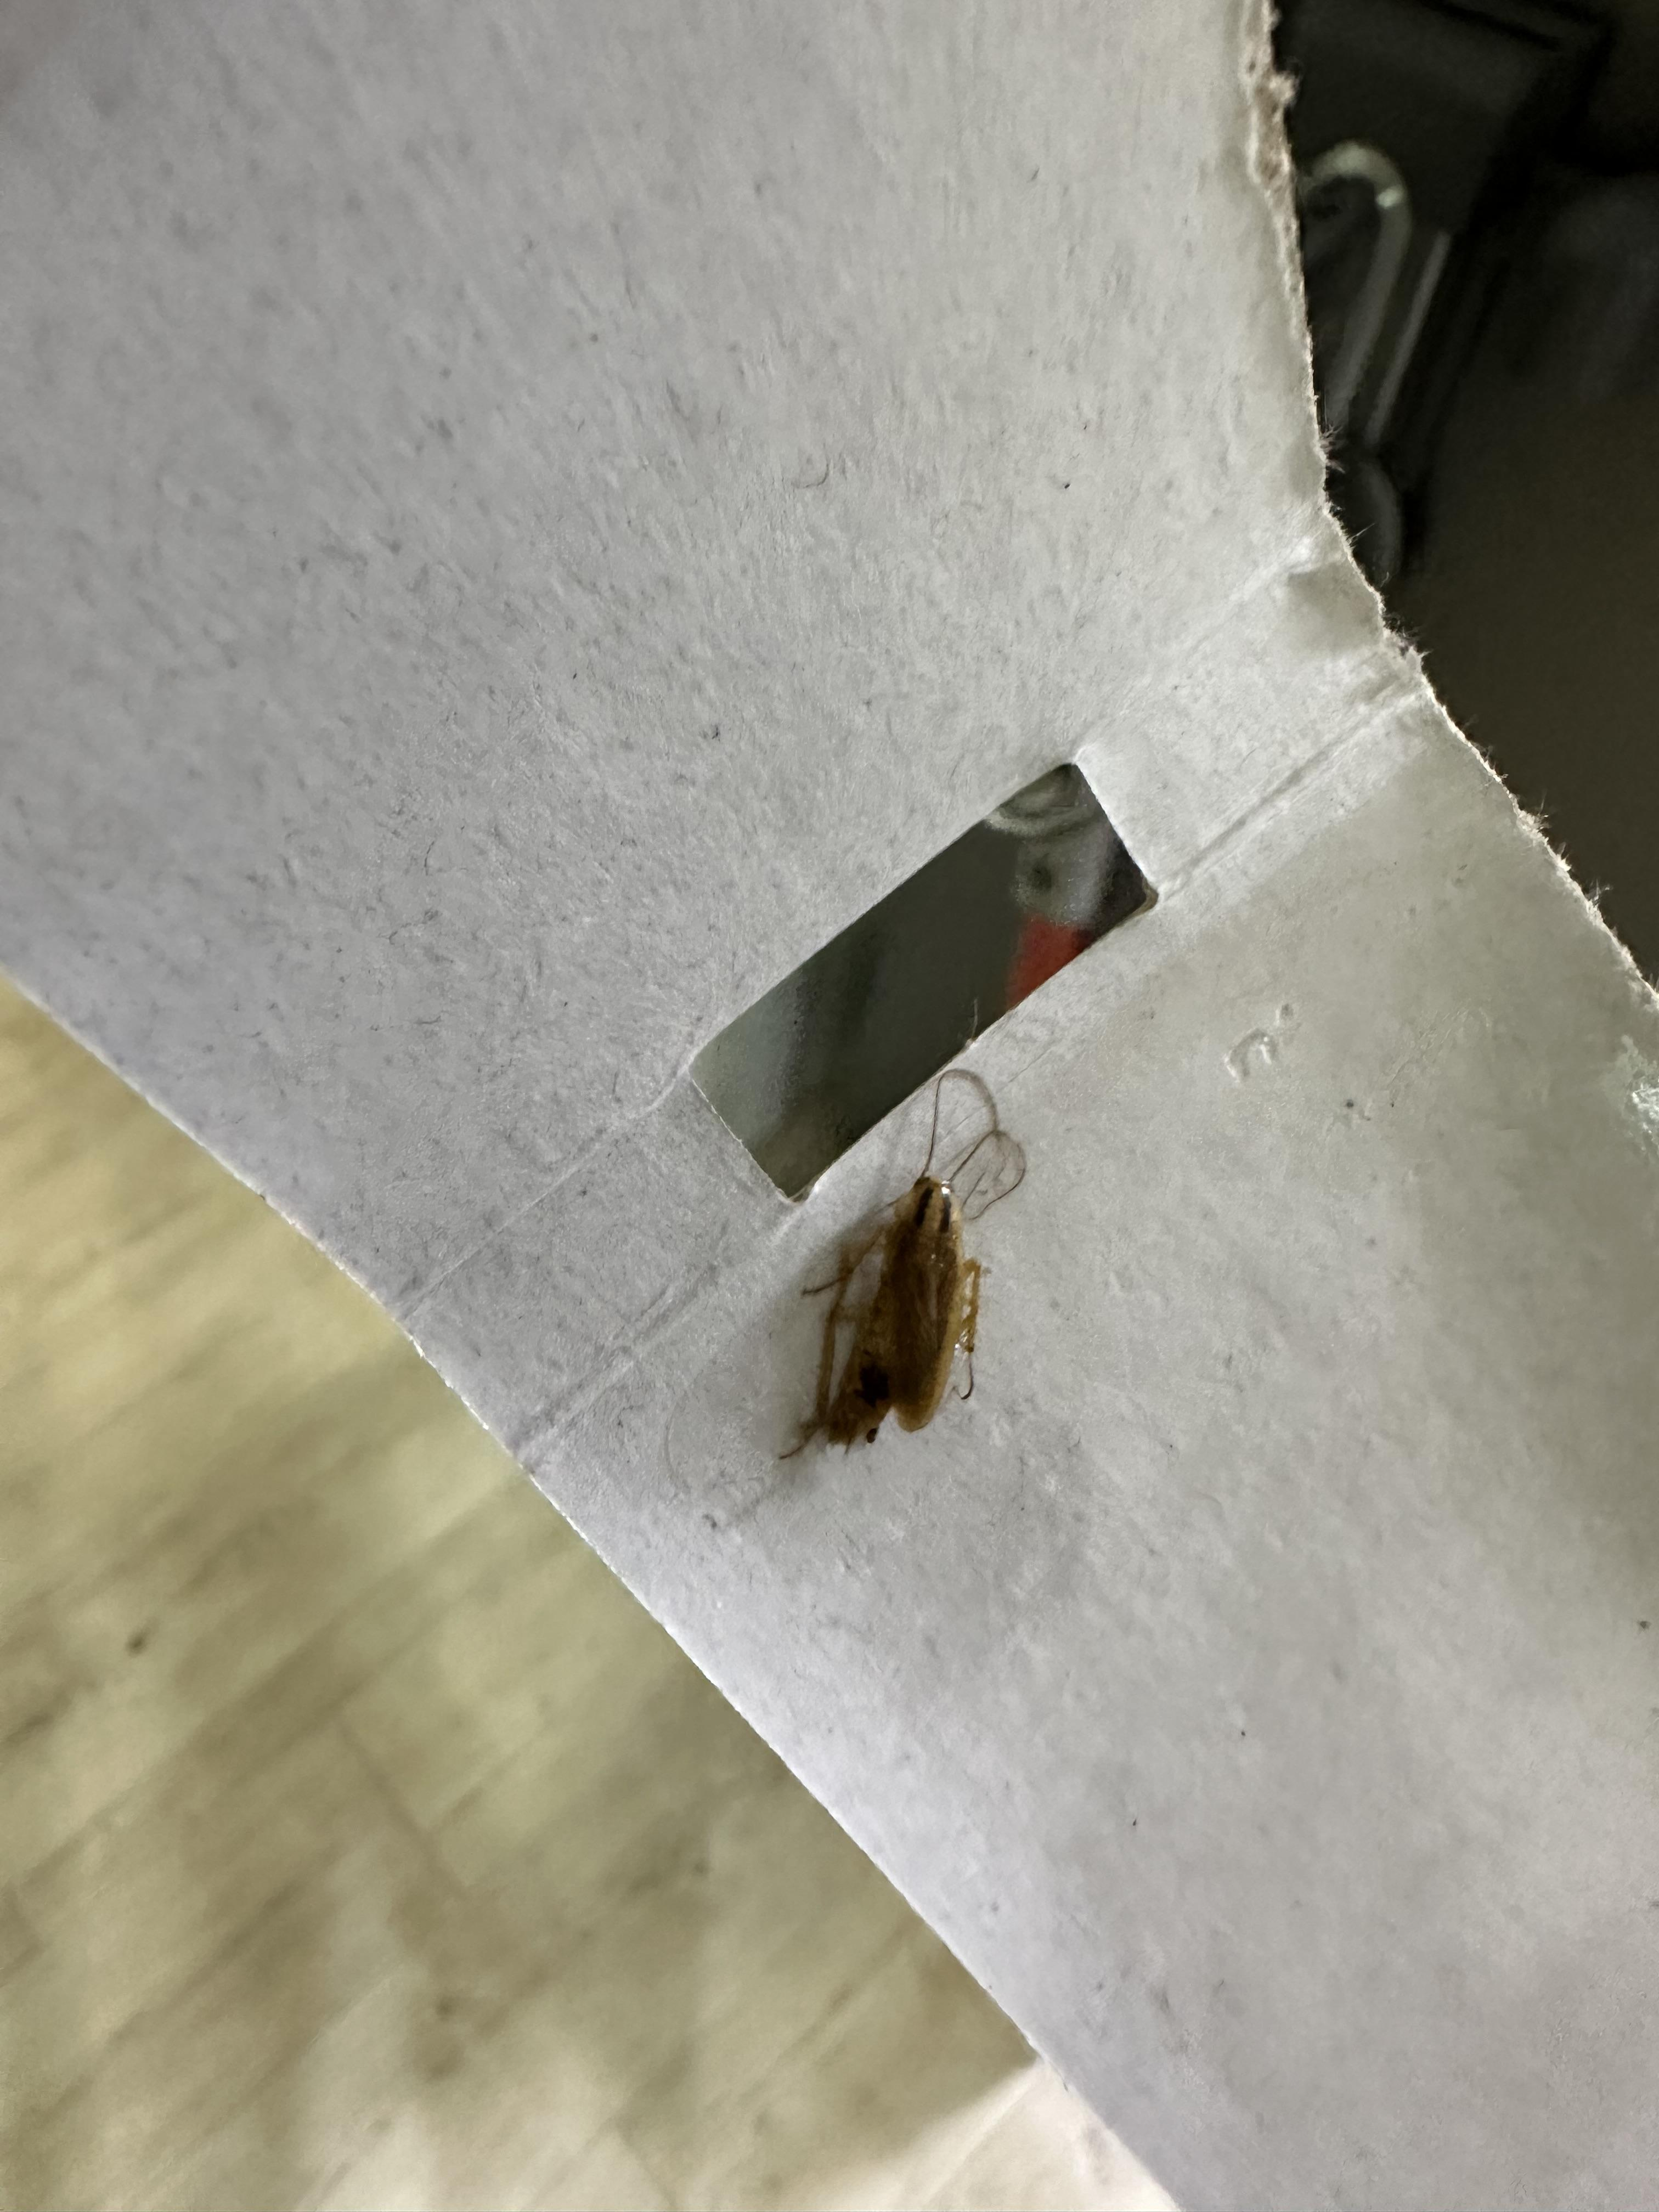cockroach: (725, 1033, 1073, 1548)
